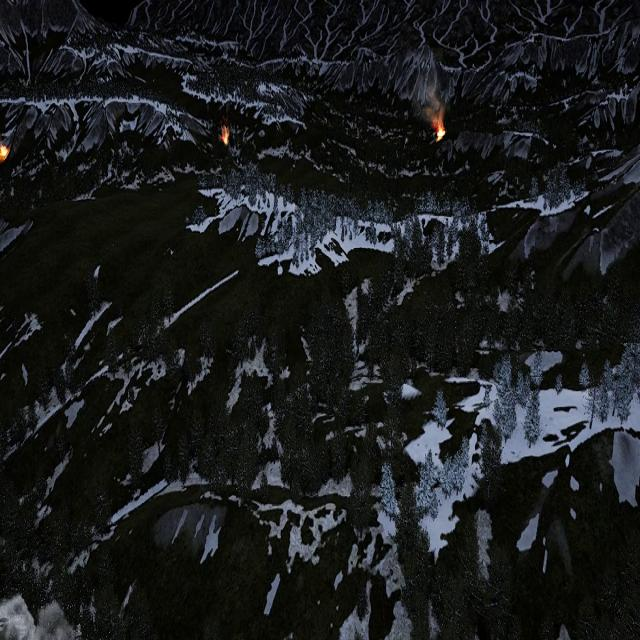fire: (0, 144, 9, 160), (220, 128, 228, 146), (435, 125, 444, 140)
smoke: (0, 594, 73, 640), (409, 67, 445, 123)
